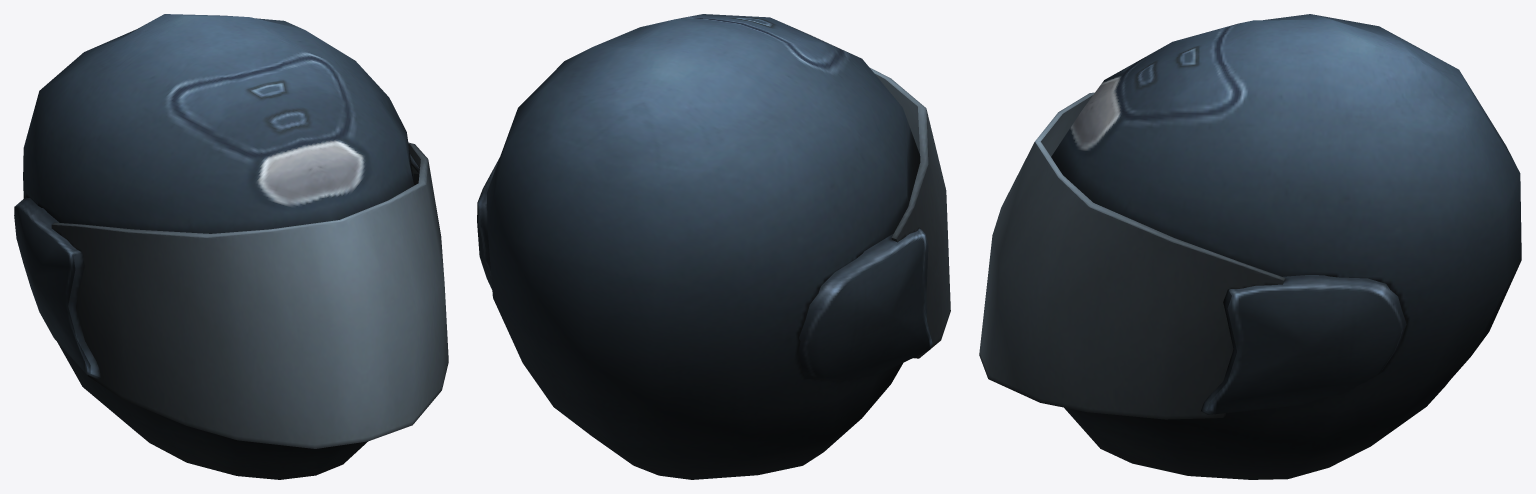
Rendered from PiErSenGongYu_01_toukui_01.FBX.
The picture shows the model from 3 angles, left to right: view 1: azimuth 30°, elevation 25°; view 2: azimuth 150°, elevation 25°; view 3: azimuth 270°, elevation 25°; orthographic projection. The views are drawn at different scales.
Visible parts, largest first — view 1: PiErSenDeGongYu_toukui_01; view 2: PiErSenDeGongYu_toukui_01; view 3: PiErSenDeGongYu_toukui_01.
Boxes of the visible parts, x1,y1,x2,y2 form: PiErSenDeGongYu_toukui_01: (14,14,448,479); PiErSenDeGongYu_toukui_01: (477,14,950,479); PiErSenDeGongYu_toukui_01: (979,14,1521,479).
Bounding box in the file's own units: 113 × 112 × 138.
